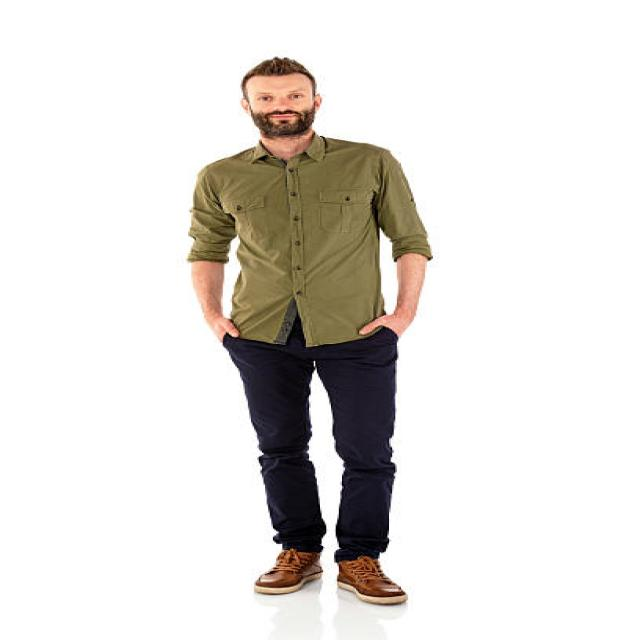Edited images: (171, 45, 472, 622)
